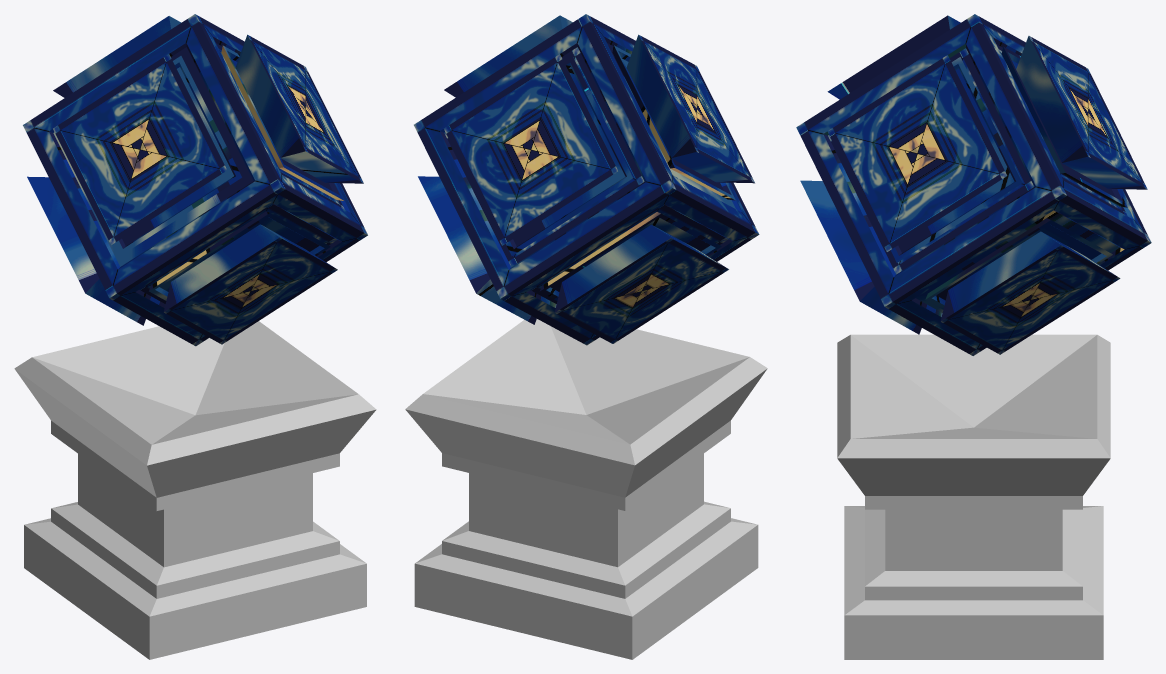
Rendered from Save Point.fbx.
The picture shows the model from 3 angles, left to right: view 1: azimuth 30°, elevation 25°; view 2: azimuth 150°, elevation 25°; view 3: azimuth 270°, elevation 25°; orthographic projection. The views are drawn at different scales.
Visible parts, largest first — view 1: Cube, Cube.001; view 2: Cube, Cube.001; view 3: Cube, Cube.001.
Part boxes in pixels (x1,y1,x2,y2): Cube: (14,321,376,659); Cube.001: (23,14,367,346); Cube: (405,319,767,659); Cube.001: (414,14,759,345); Cube: (837,334,1110,659); Cube.001: (796,14,1151,355).
Bounding box in the file's own units: 283 × 598 × 326.
